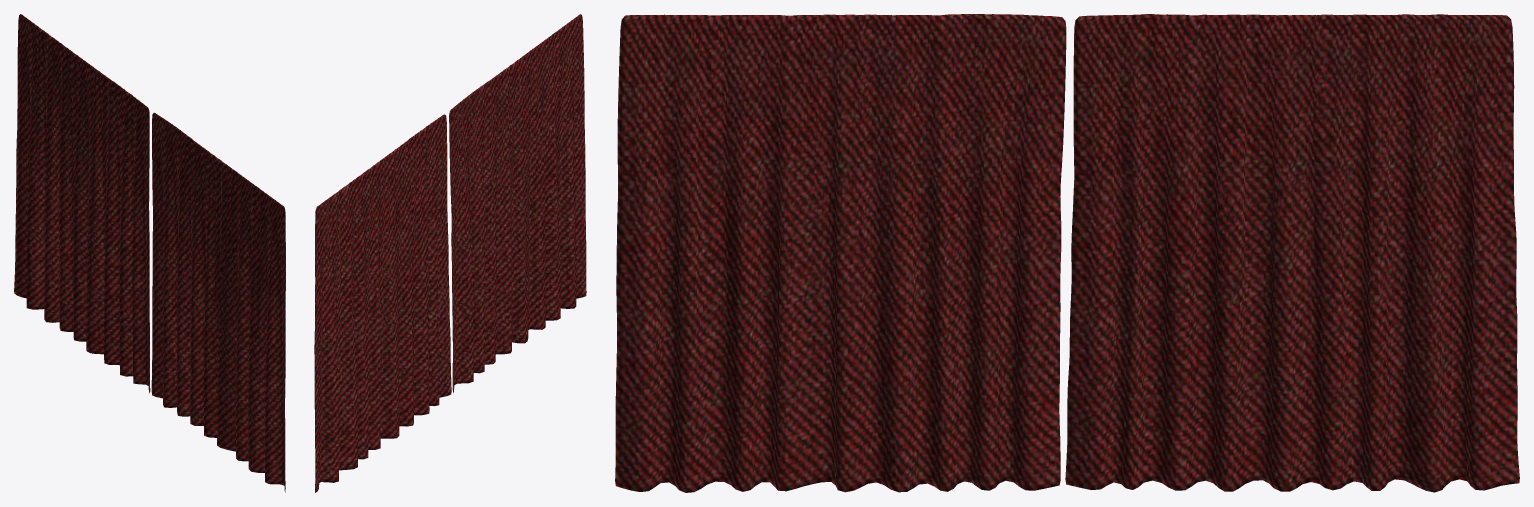
The model's file is Cortinas_Cerradas.fbx.
The picture shows the model from 3 angles, left to right: view 1: azimuth 30°, elevation 25°; view 2: azimuth 150°, elevation 25°; view 3: azimuth 270°, elevation 25°; orthographic projection. The views are drawn at different scales.
Visible parts, largest first — view 1: Plane.001, Plane; view 2: Plane, Plane.001; view 3: Plane.001, Plane.
Boxes of the visible parts, bbox=[...] form: Plane.001: bbox=[151, 112, 285, 492]; Plane: bbox=[14, 14, 150, 393]; Plane: bbox=[314, 114, 451, 492]; Plane.001: bbox=[449, 14, 586, 392]; Plane.001: bbox=[615, 14, 1066, 492]; Plane: bbox=[1065, 14, 1519, 492].
Size of the model in its own units: 36.25 by 592 by 1024.
1 material, 1 textured.
